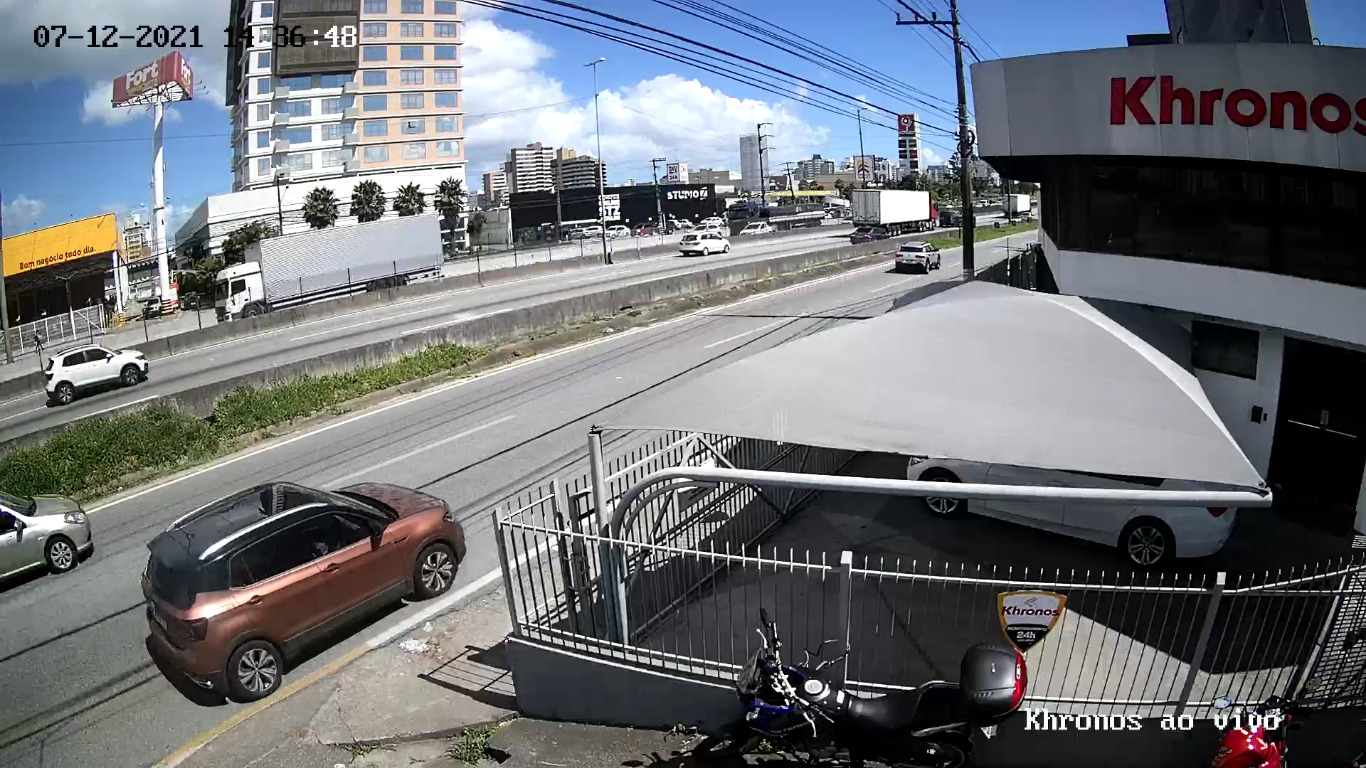car: (141, 481, 467, 702), (1, 488, 91, 597)
